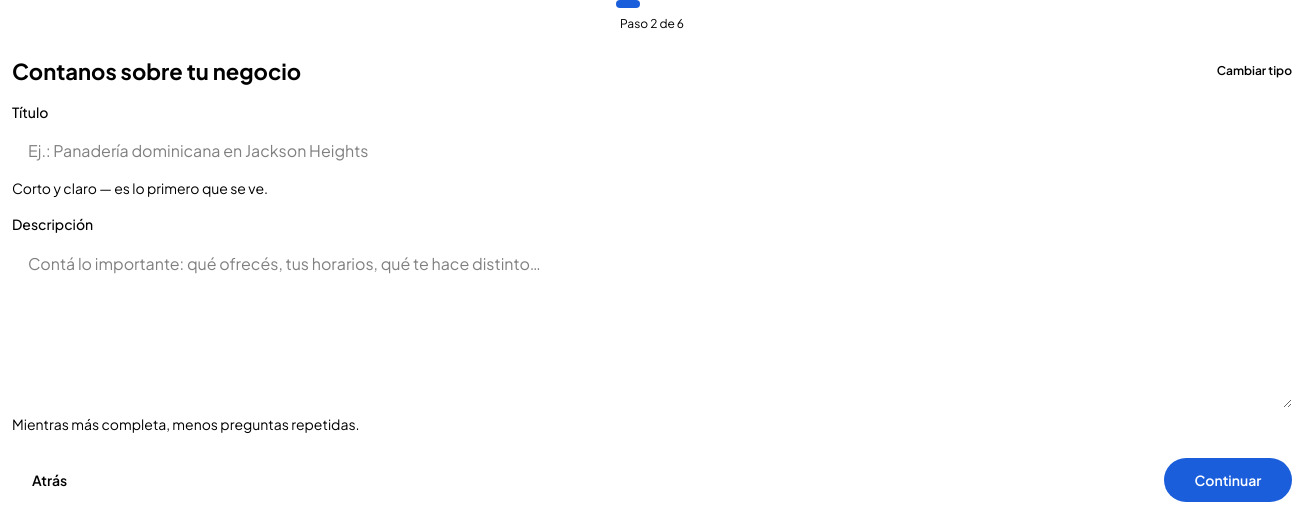
Test: PublishForm — con preselect (?kind= del menú crear-post) › "Cambiar tipo" vuelve al selector, con el tipo preseleccionado resaltado
Click the button "Cambiar tipo": (1254, 71) [1217,63,1292,79]
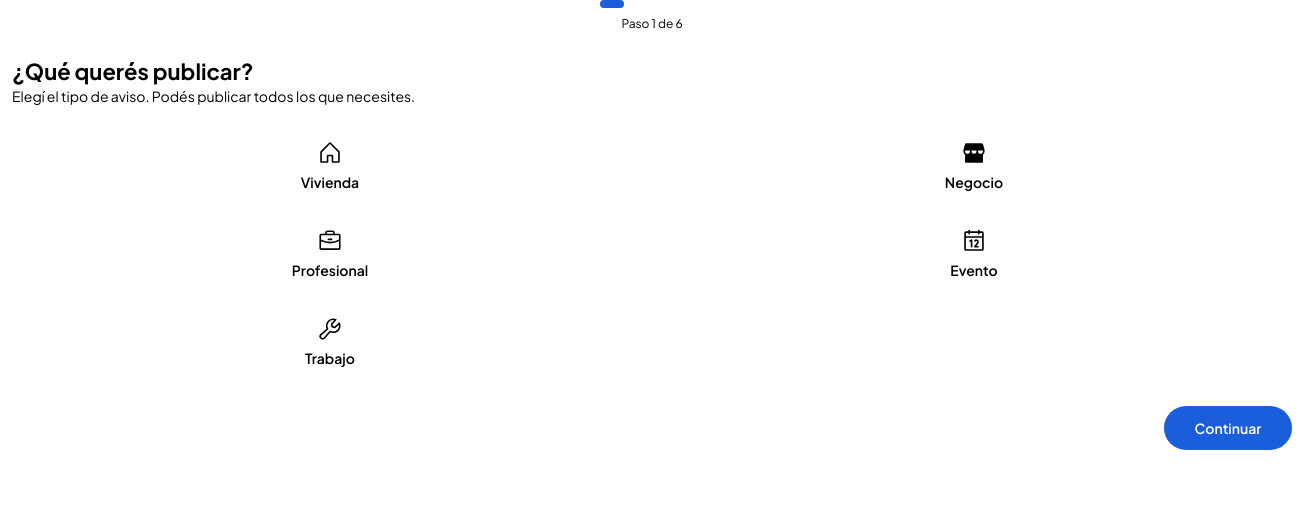
Result: the text "¿Qué querés publicar?" is shown at [12,56,254,86]
Result: the heading "Contanos sobre tu negocio" is gone
